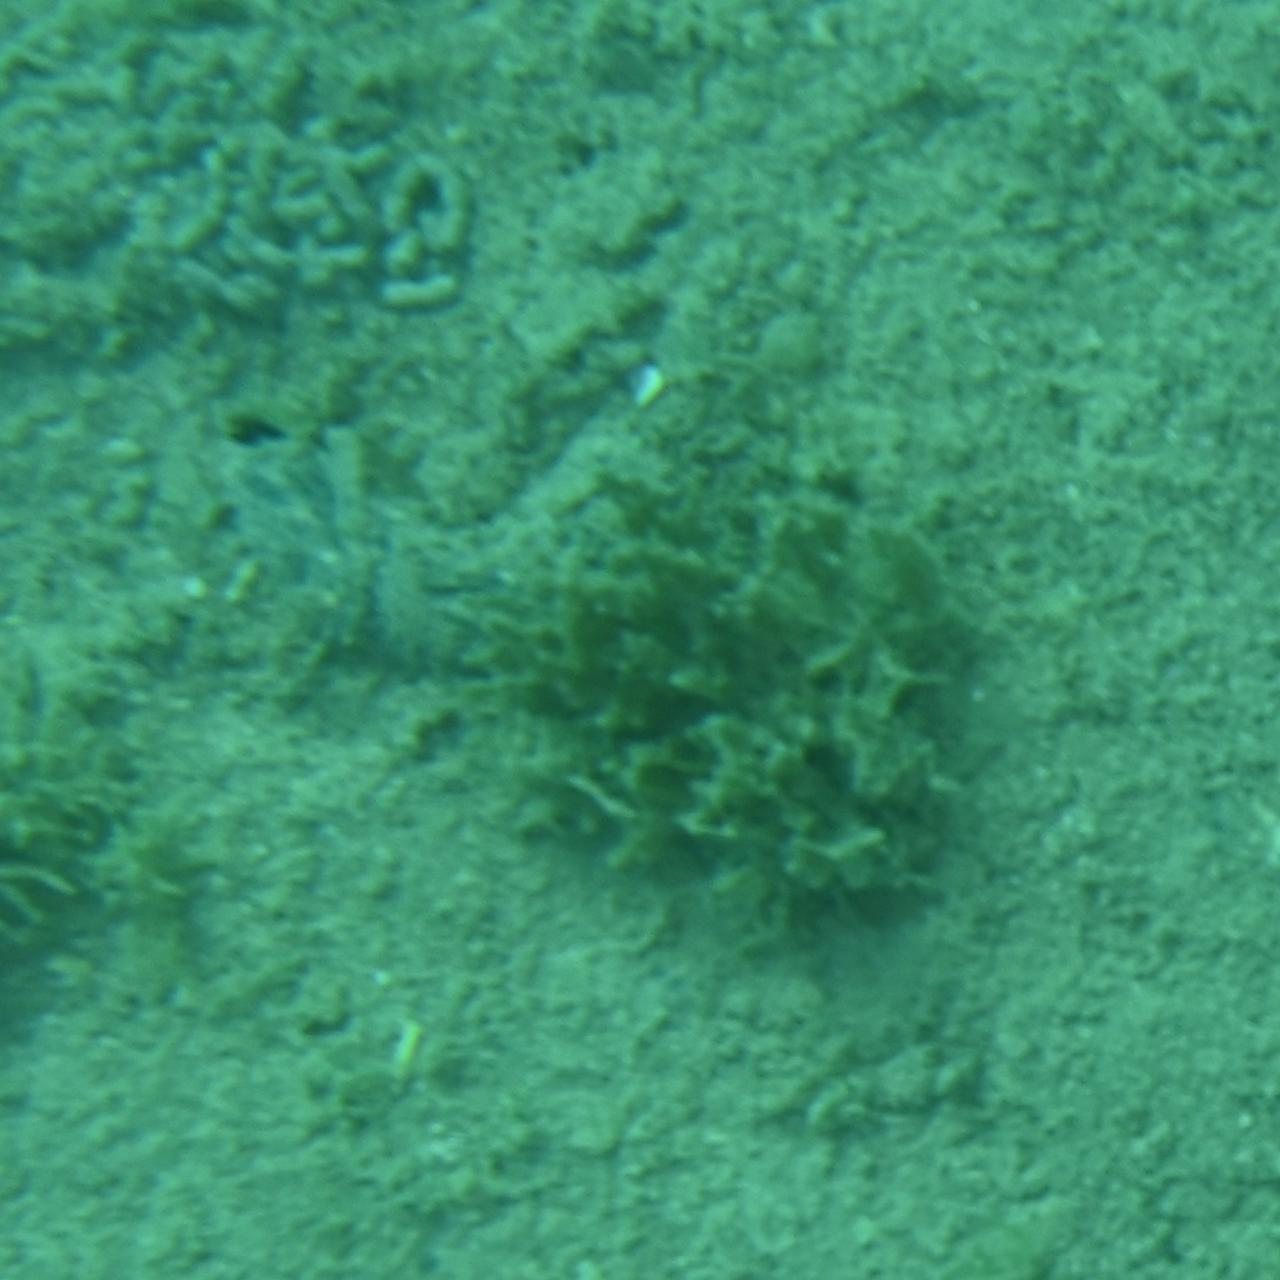Holothuria tubulosa: (209, 386, 794, 753)
Phaeophyceae -cfr Cystoseira-: (568, 468, 989, 954)
